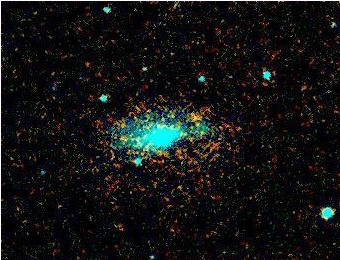star: (187, 103, 217, 133)
